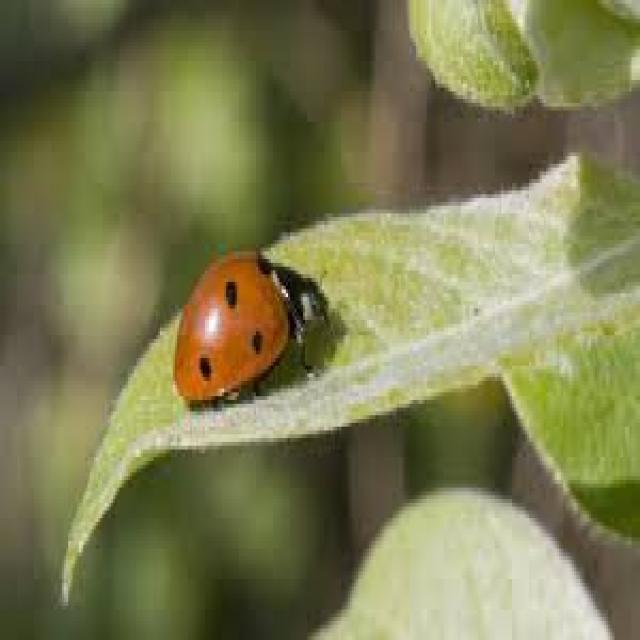ladybug: (173, 251, 324, 404)
